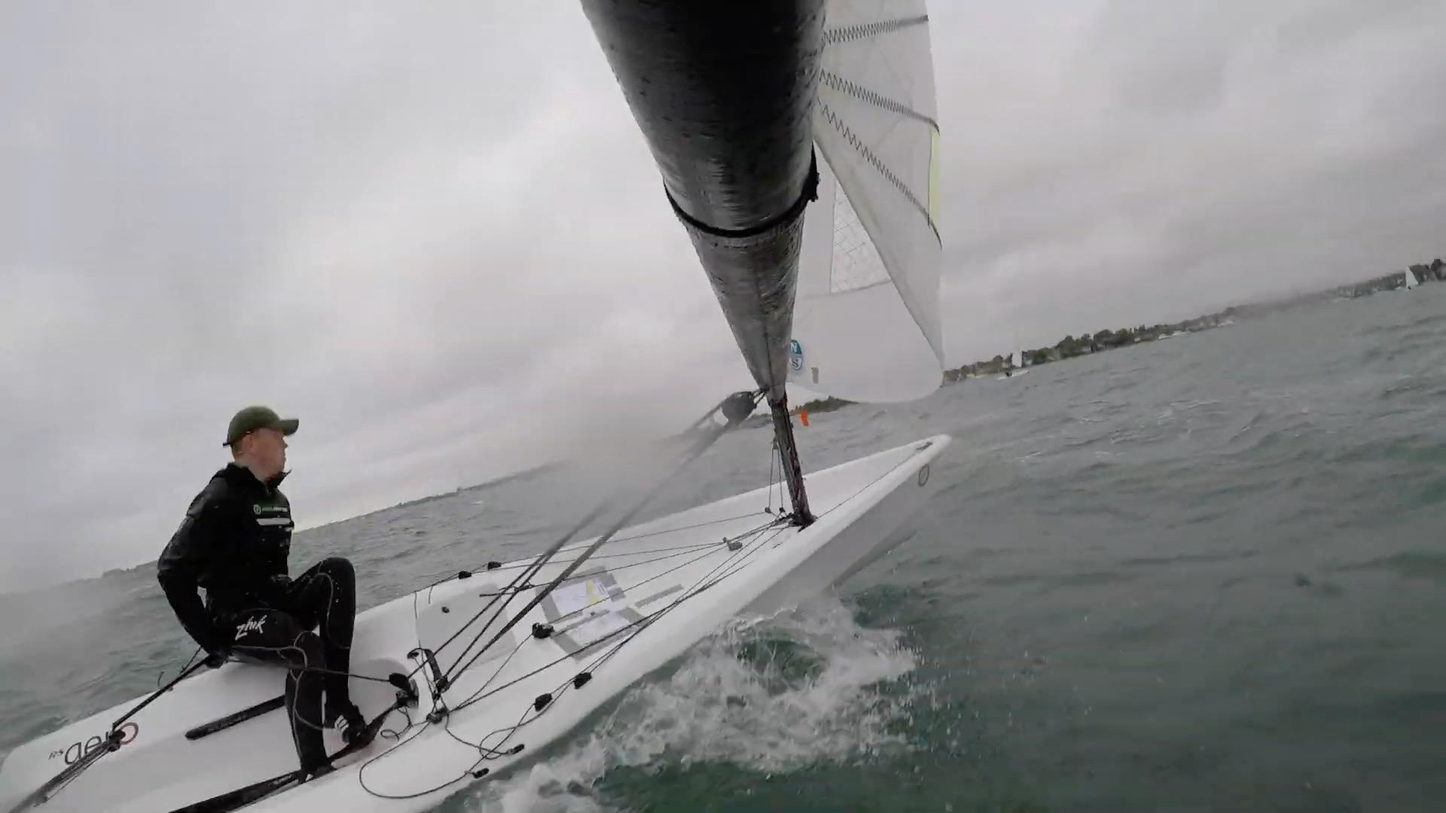boat: (0, 0, 951, 813)
land: (948, 260, 1446, 380), (797, 397, 856, 416)
person: (158, 407, 387, 781)
sea: (437, 263, 1446, 813), (287, 391, 777, 611), (0, 565, 199, 761), (792, 391, 937, 477)
sky: (0, 0, 752, 595), (923, 0, 1446, 369)
